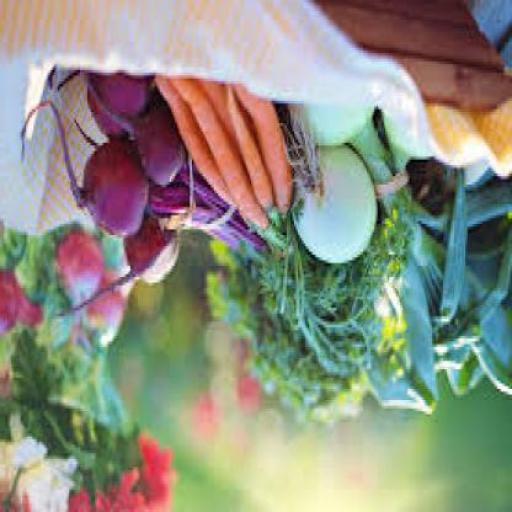biodegradable: (235, 213, 407, 420), (368, 181, 511, 418), (1, 420, 177, 510), (172, 81, 270, 233), (156, 78, 240, 212), (294, 151, 380, 266), (228, 84, 294, 224), (63, 140, 149, 238), (229, 84, 276, 224), (136, 107, 186, 190), (88, 76, 152, 140), (291, 104, 374, 151), (2, 422, 50, 499), (126, 224, 183, 288), (15, 336, 64, 409), (60, 232, 104, 311), (86, 274, 128, 352), (16, 462, 79, 510), (138, 442, 177, 509), (198, 81, 230, 132), (102, 475, 145, 511), (18, 243, 48, 294), (47, 294, 74, 341), (2, 274, 20, 338), (18, 289, 44, 333), (65, 495, 110, 511), (8, 235, 22, 275)
